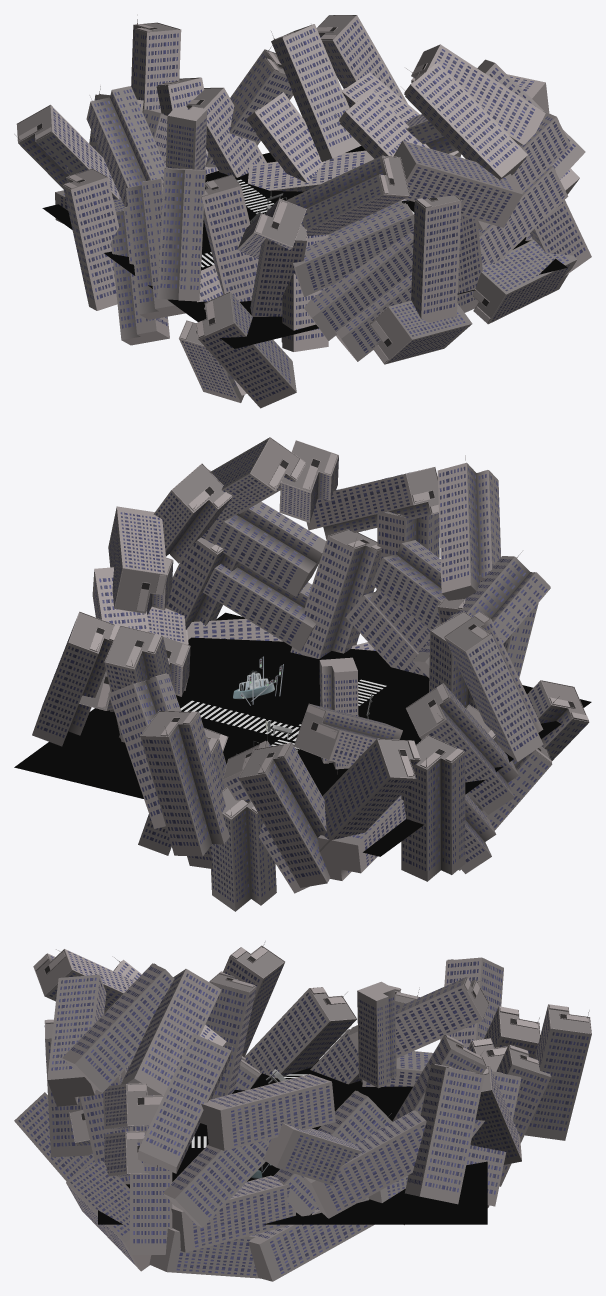
Rendered from level-1-texture-2D.glb.
The picture shows the model from 3 angles, top to bottom: view 1: azimuth 30°, elevation 25°; view 2: azimuth 150°, elevation 25°; view 3: azimuth 270°, elevation 25°; orthographic projection. The views are drawn at different scales.
Parts seen in each view (by area): view 1: buildings, Plane, upside-down-building; view 2: buildings, Plane, upside-down-building, lignepieton.001, fountain; view 3: buildings, Plane, upside-down-building.
Boxes of the visible parts, x1,y1,x2,y2 form: buildings: (14, 14, 591, 408); Plane: (42, 146, 567, 348); upside-down-building: (166, 106, 207, 169); buildings: (32, 437, 589, 911); Plane: (14, 612, 591, 856); upside-down-building: (319, 657, 358, 774); lignepieton.001: (180, 700, 299, 741); fountain: (233, 671, 274, 698); buildings: (14, 941, 591, 1281); Plane: (98, 1060, 487, 1224); upside-down-building: (357, 981, 396, 1088).
Size of the model in its own units: 328 by 246 by 391.
Materials: 13 (9 with a texture image).
